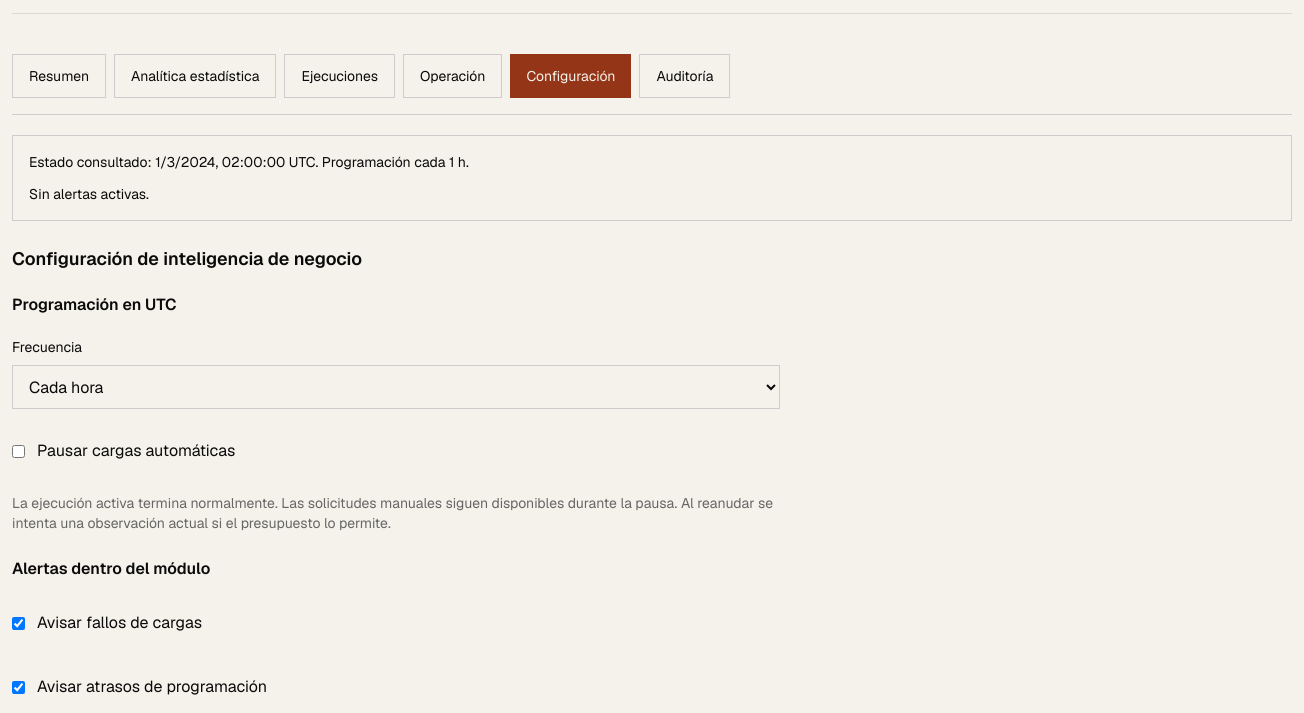
Test: BI interfaces with validated contracts › releases the exit warning after reverting or saving, without changing version recovery
Select "Cada 6 horas (00, 06, 12 y 18 UTC)" in the dropdown labelled "Frecuencia" at (396, 387), box [12,365,780,409]
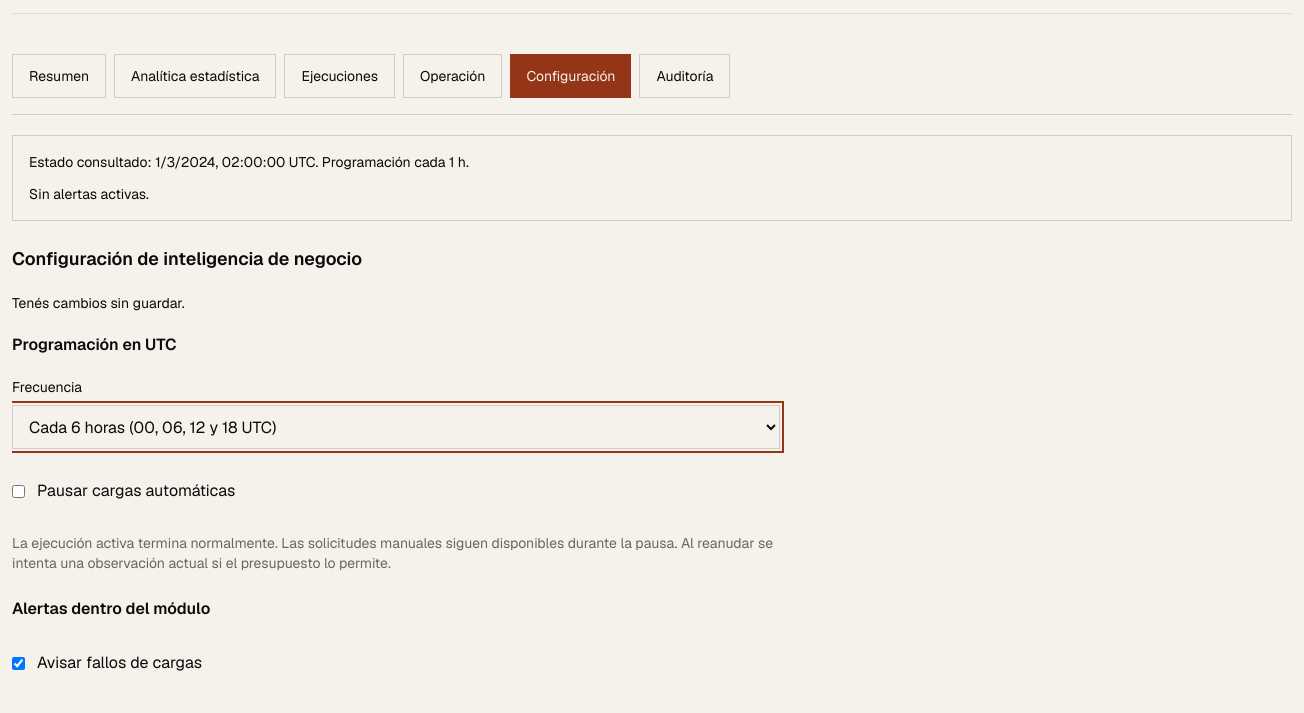
Select "Cada hora" in the dropdown labelled "Frecuencia" at (396, 427), box [12,405,780,449]
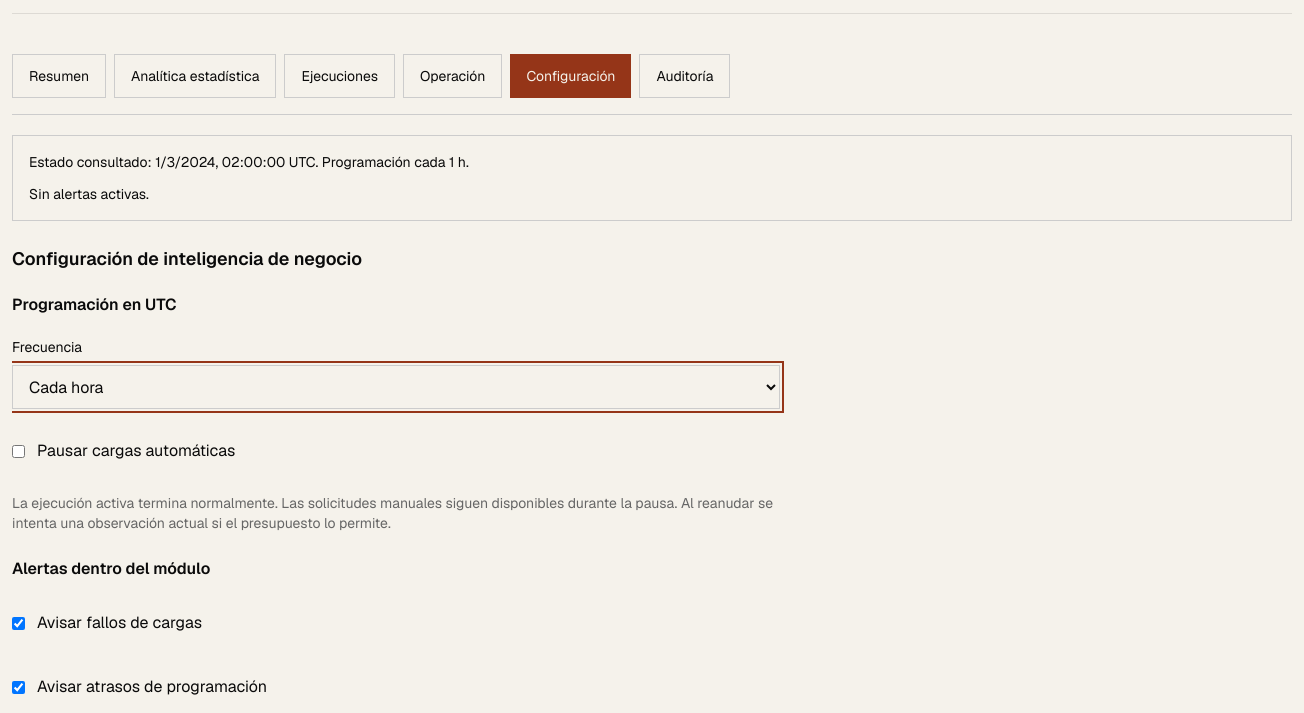
Select "Cada 6 horas (00, 06, 12 y 18 UTC)" in the dropdown labelled "Frecuencia" at (396, 387), box [12,365,780,409]
(page scrolled)
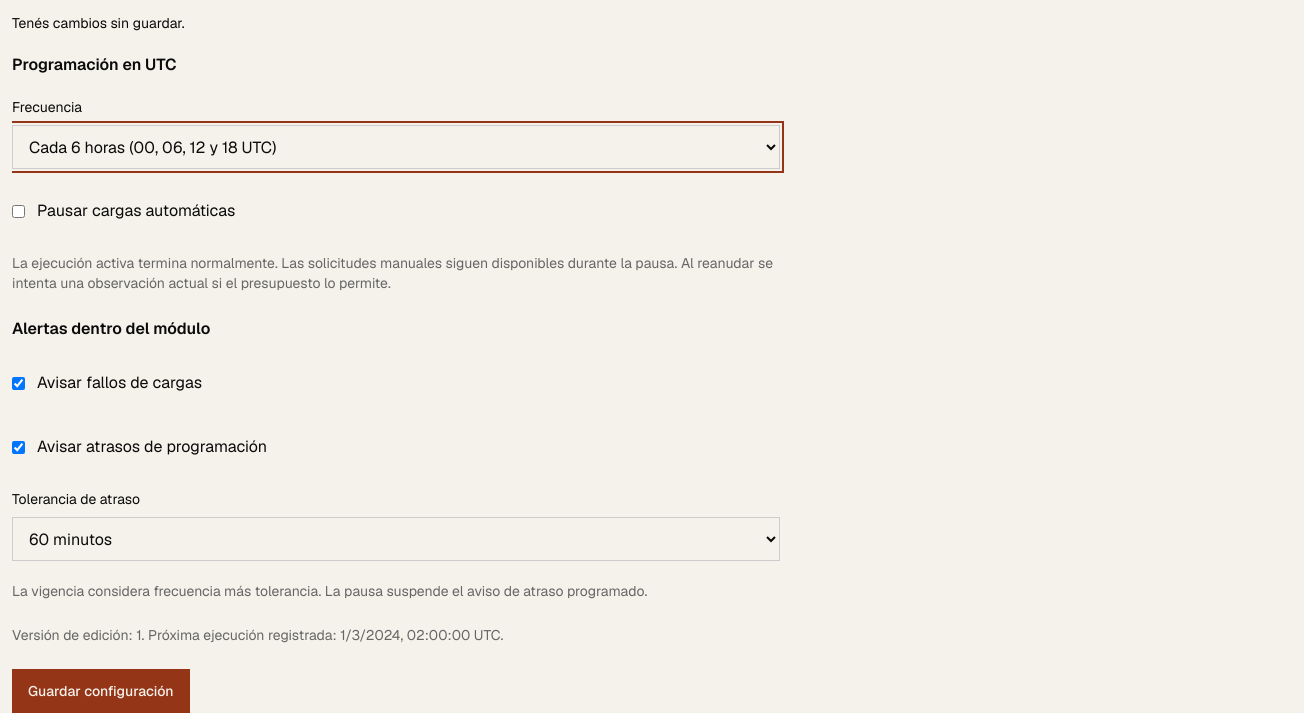
Click the button "Guardar configuración" at (101, 691), box [12,669,190,712]
(page scrolled)
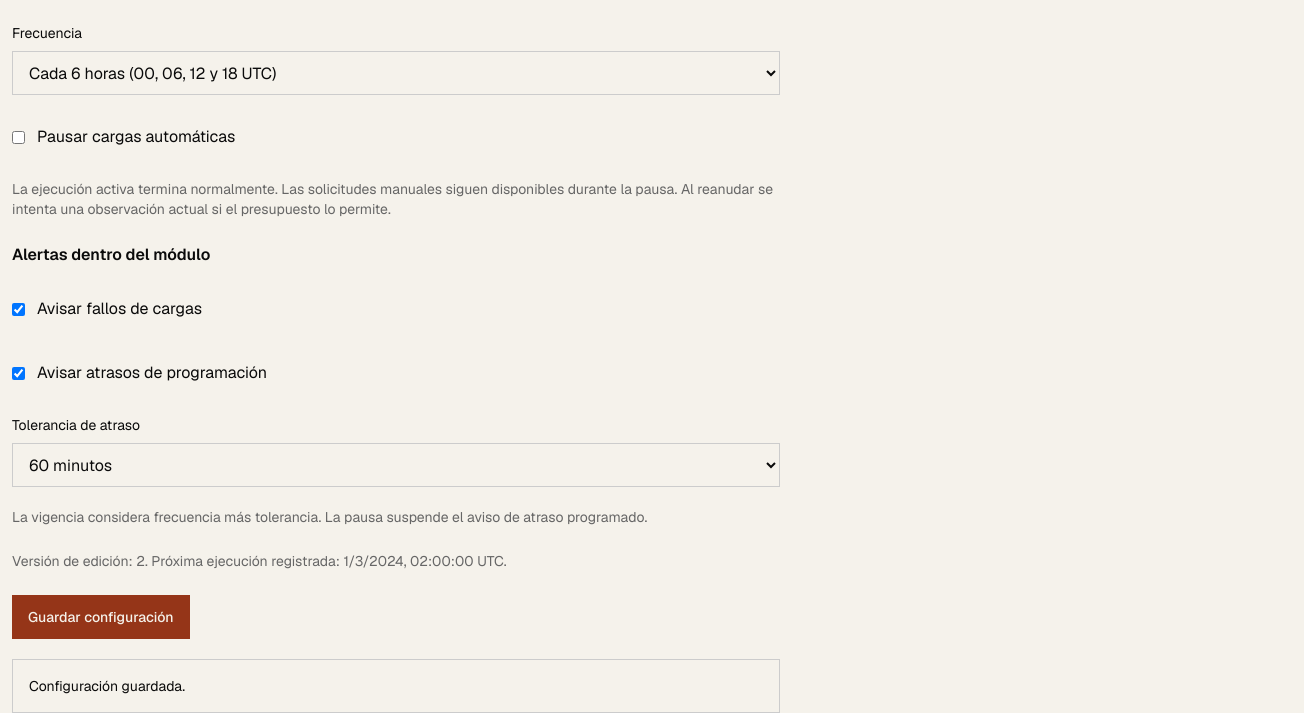
Now the text "Configuración guardada." is shown, box [12,659,780,712]
